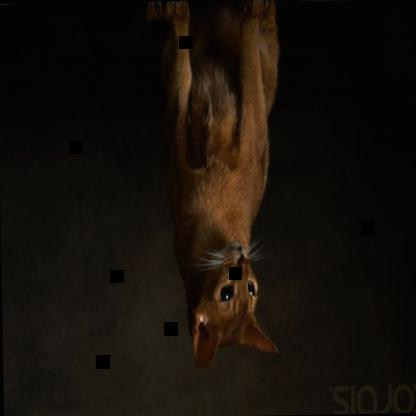cat: (145, 0, 286, 373)
